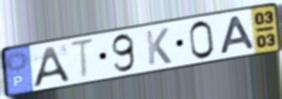0: (188, 19, 216, 60)
9: (109, 32, 136, 74)
A: (31, 44, 72, 89), (218, 14, 257, 56)
K: (144, 26, 174, 67)
T: (68, 37, 97, 82)
